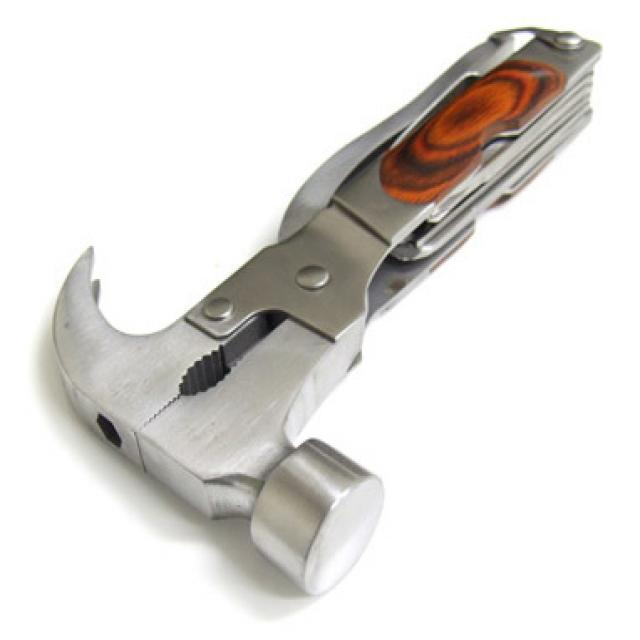hammer: (18, 18, 629, 603)
